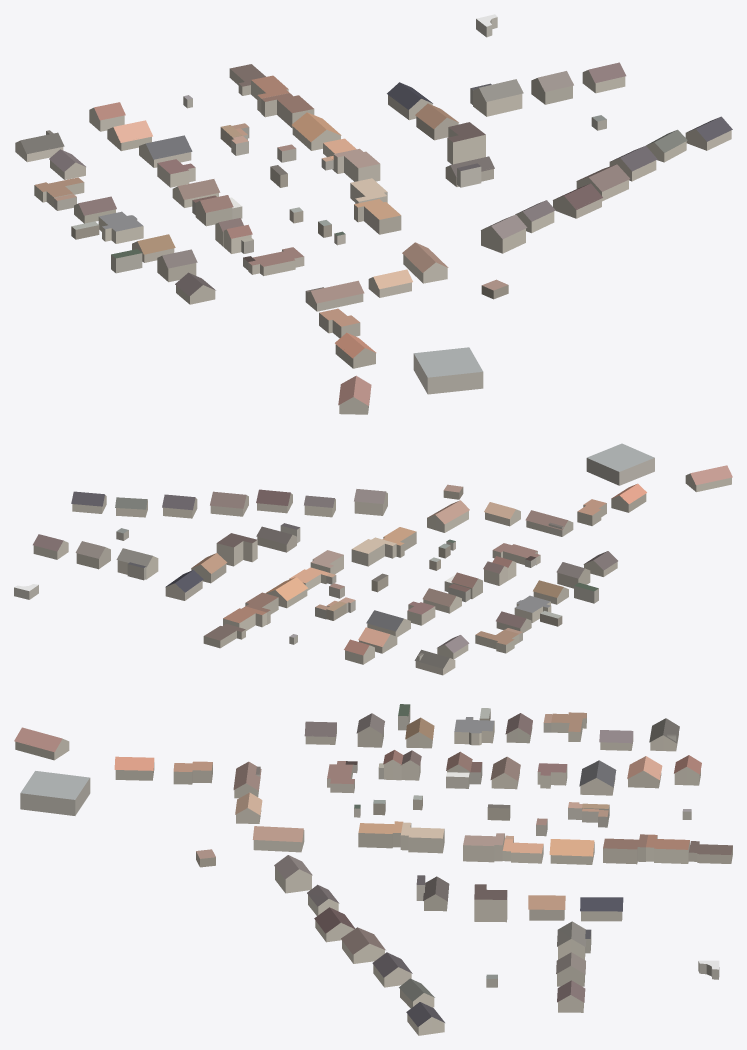
3 views of the same model, one above another, from view 1: azimuth 30°, elevation 25°; view 2: azimuth 150°, elevation 25°; view 3: azimuth 270°, elevation 25° (orthographic). The views are drawn at different scales.
Parts seen in each view (by area): view 1: tuile; view 2: tuile; view 3: tuile.
Part boxes in pixels (bbox=[...]): tuile: bbox=[15, 14, 732, 414]; tuile: bbox=[14, 443, 732, 675]; tuile: bbox=[14, 704, 732, 1035].
Size of the model in its own units: 254 by 19.41 by 263.
